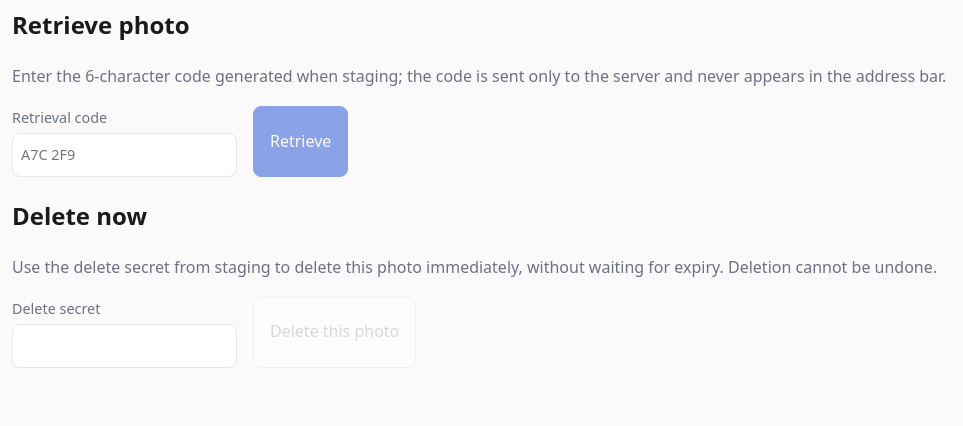
Test: RetrievePage › associates the error message with the input
The image size is (963, 426).
Type "A7C2F9" into the field labelled "Retrieval code" at {"x": 124, "y": 155}, box [12, 133, 237, 177]
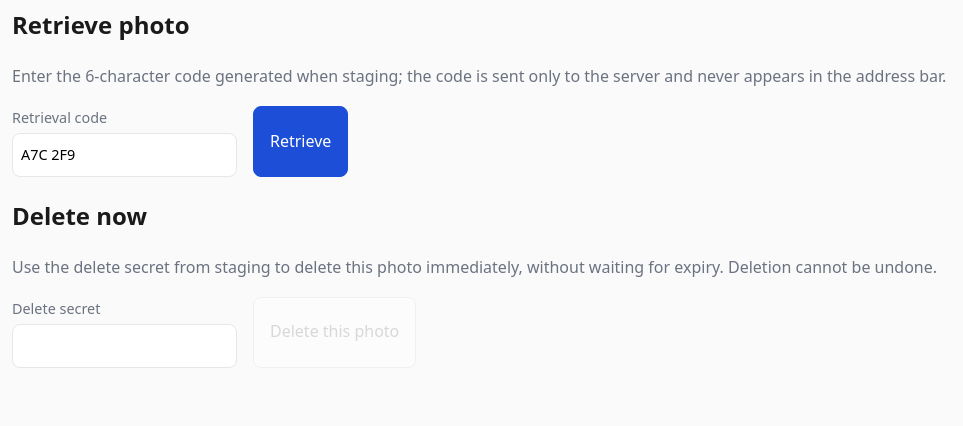
Click the button "Retrieve" at {"x": 301, "y": 141}, box [253, 106, 348, 177]
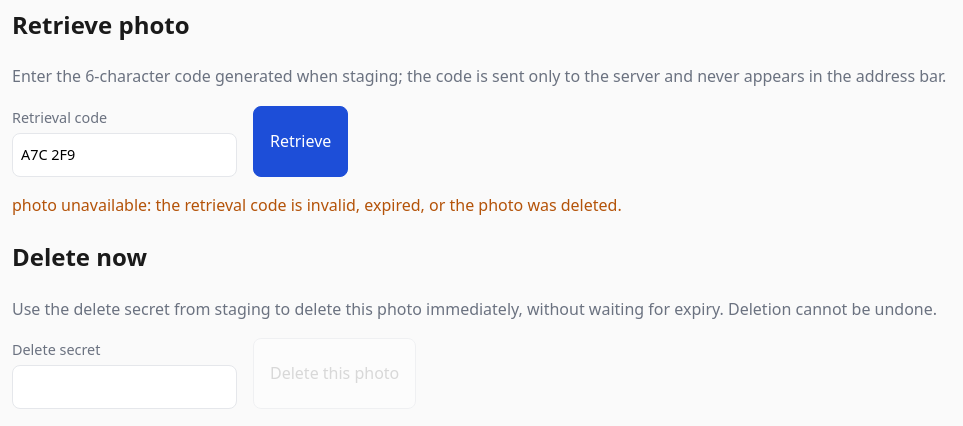
Expected: the message shows "photo unavailable", [12, 194, 622, 216]
